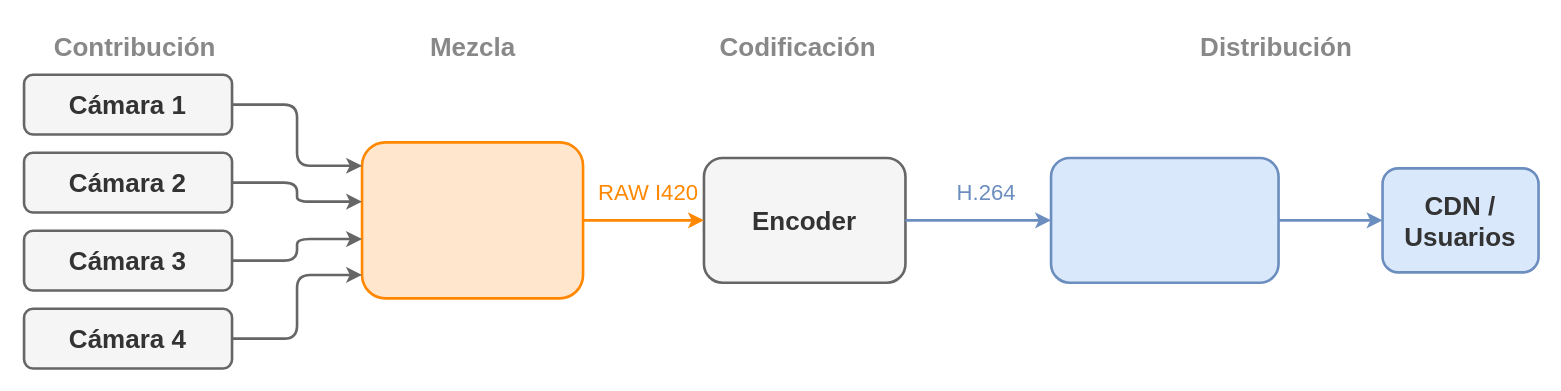
Image size: 1561x391. Some labels were removed from this diagram. The shapes that lost their labels are listed below. From the top down, each one's box as (x1, y1, x2, y2) in pixels, then its label:
(360, 140, 584, 299): Mezclador de vídeo
(1049, 156, 1279, 283): Distribución RTMP · SRT · HLS
